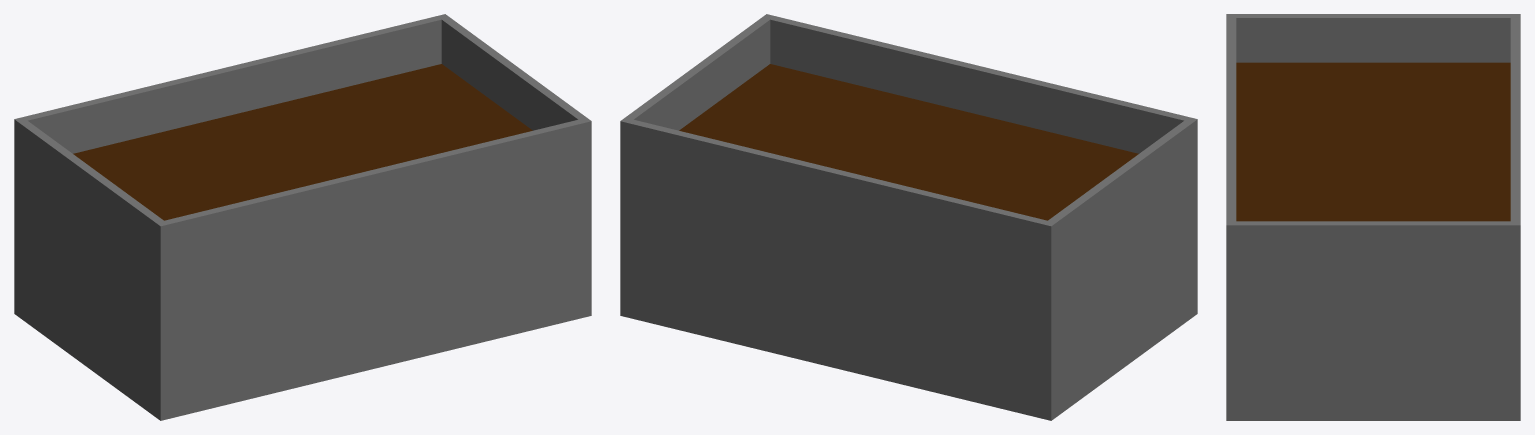
The model's file is flower pot metal.obj.
3 renders of one model, left to right at view 1: azimuth 30°, elevation 25°; view 2: azimuth 150°, elevation 25°; view 3: azimuth 270°, elevation 25°, orthographic.
Visible parts, largest first — view 1: flower pot metal; view 2: flower pot metal; view 3: flower pot metal.
Part boxes in pixels (left/top/right/bottom): flower pot metal: left=14, top=14, right=591, bottom=420; flower pot metal: left=620, top=14, right=1197, bottom=420; flower pot metal: left=1226, top=14, right=1520, bottom=420.
Size of the model in its own units: 51 by 22 by 30.
1 material, 1 textured.
